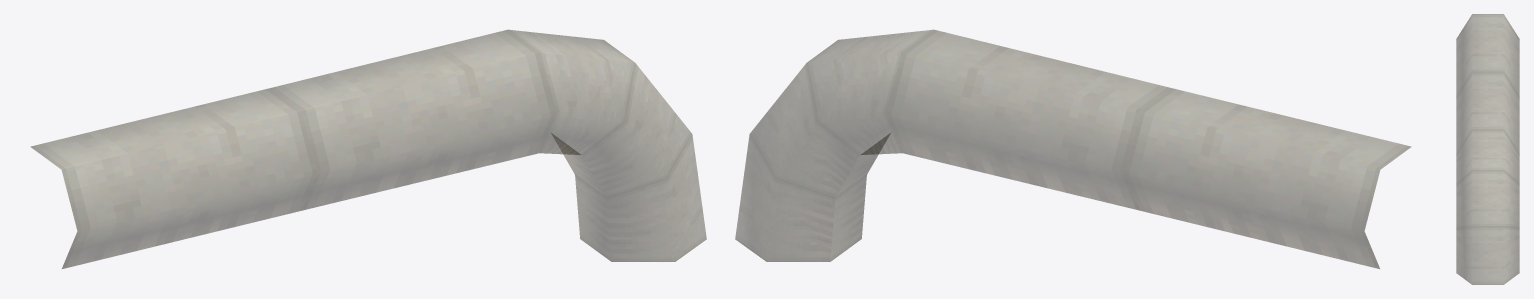
The picture shows the model from 3 angles, left to right: view 1: azimuth 30°, elevation 25°; view 2: azimuth 150°, elevation 25°; view 3: azimuth 270°, elevation 25°; orthographic projection. The views are drawn at different scales.
Visible parts, largest first — view 1: Slim_obj_070; view 2: Slim_obj_070; view 3: Slim_obj_070.
Part boxes in pixels (x1,y1,x2,y2): Slim_obj_070: (30, 29, 706, 268); Slim_obj_070: (735, 29, 1411, 268); Slim_obj_070: (1456, 14, 1519, 284).
Size of the model in its own units: 2.7 by 0.9102 by 0.459.
Materials: 1 (1 with a texture image).
